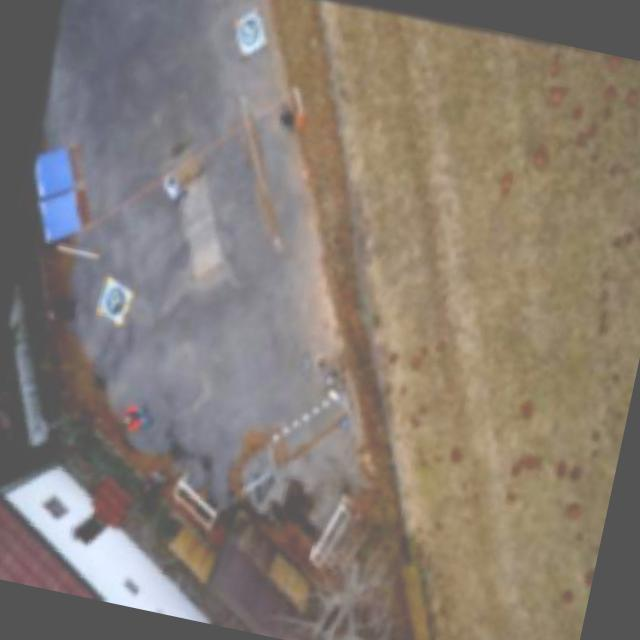Person: (31, 282, 83, 330), (124, 456, 172, 505), (108, 393, 150, 435), (265, 93, 305, 137)
